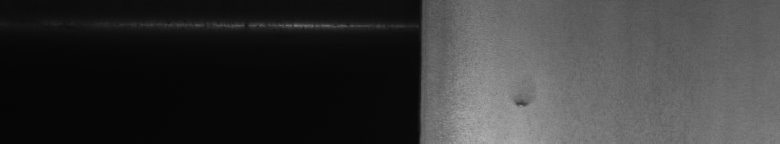fi: (512, 99, 532, 112)
